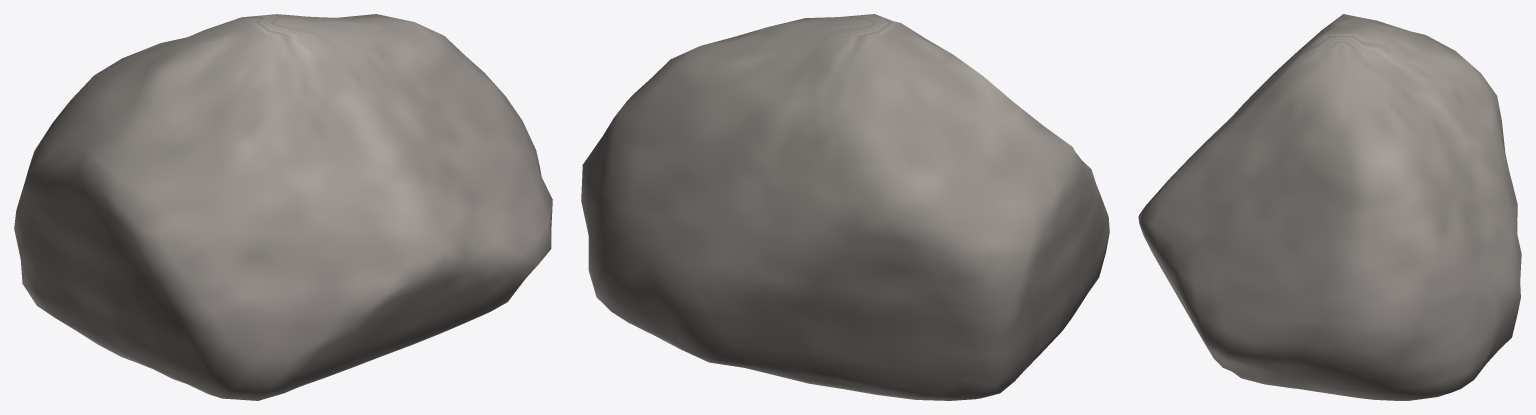
File: Kit_RockA.obj
3 renders of one model, left to right at view 1: azimuth 30°, elevation 25°; view 2: azimuth 150°, elevation 25°; view 3: azimuth 270°, elevation 25°, orthographic. The views are drawn at different scales.
Visible parts, largest first — view 1: Kit_RockA; view 2: Kit_RockA; view 3: Kit_RockA.
Part boxes in pixels (bbox=[...]): Kit_RockA: bbox=[14, 14, 552, 400]; Kit_RockA: bbox=[581, 14, 1109, 400]; Kit_RockA: bbox=[1138, 14, 1521, 400].
Bounding box in the file's own units: 6.31 × 3.98 × 4.86.
Materials: 1 (1 with a texture image).
